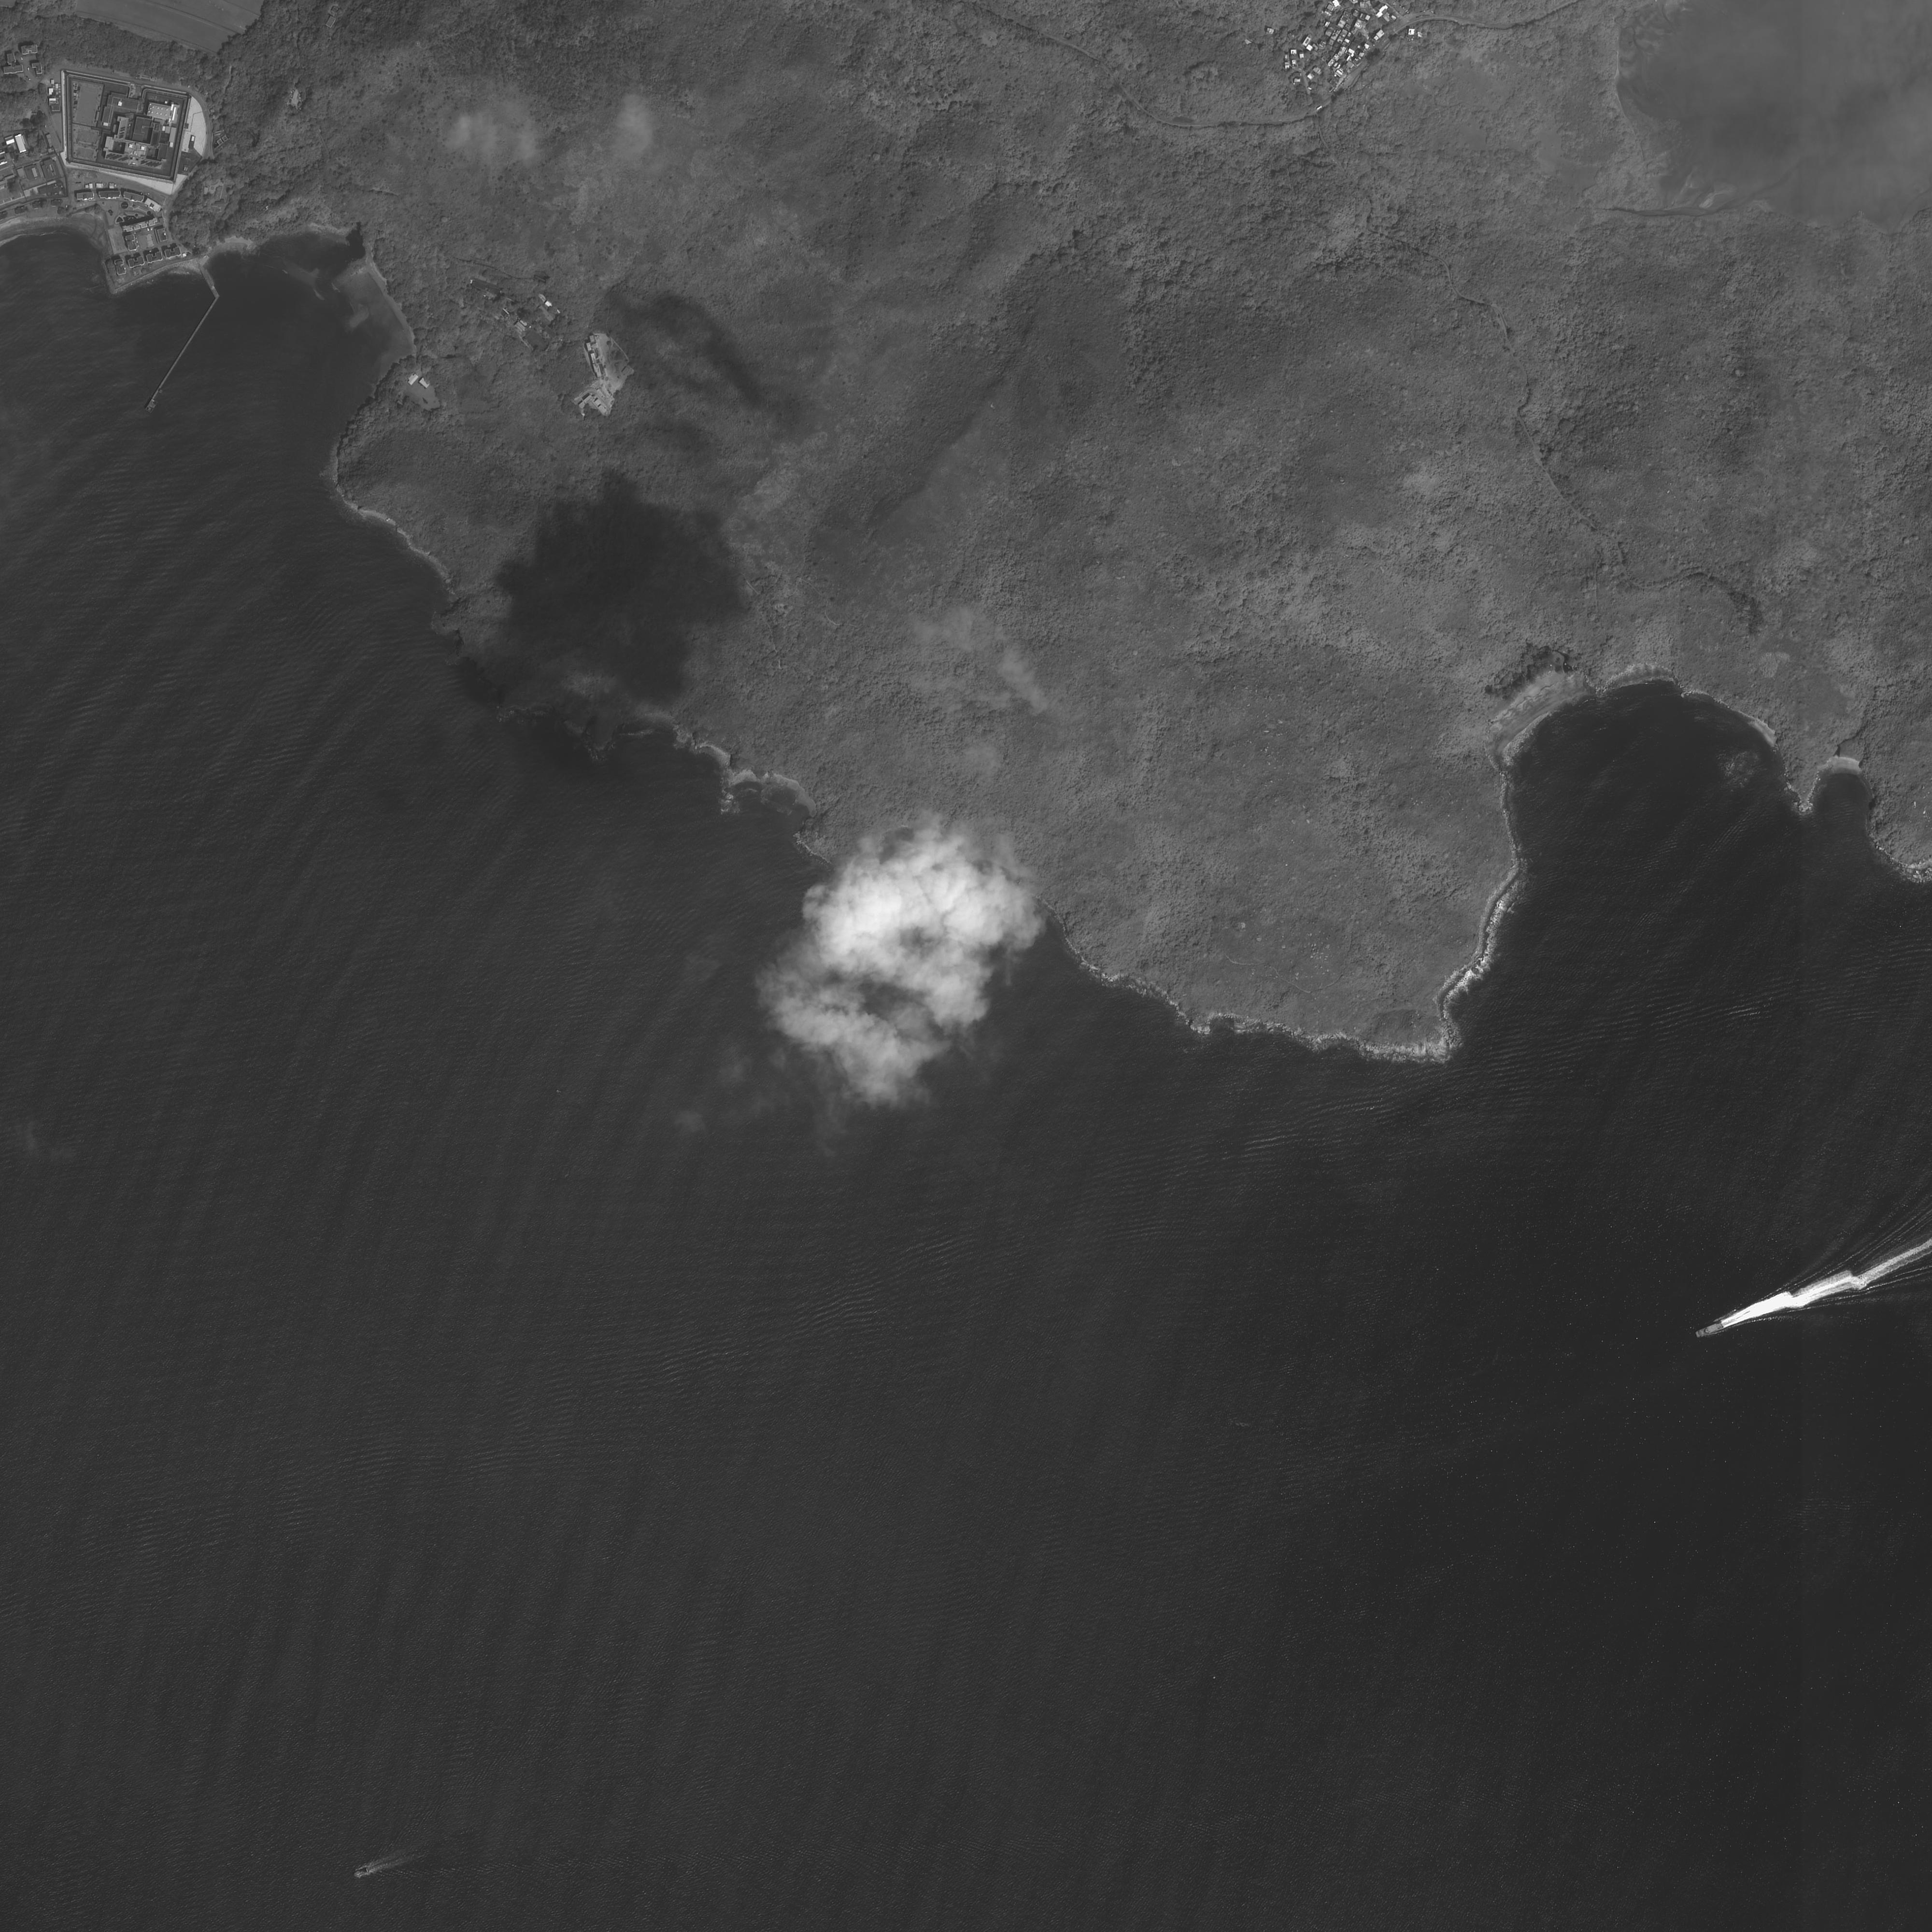harbor: (145, 292, 221, 414)
ship: (1695, 1322, 1723, 1339), (352, 1867, 370, 1879)
